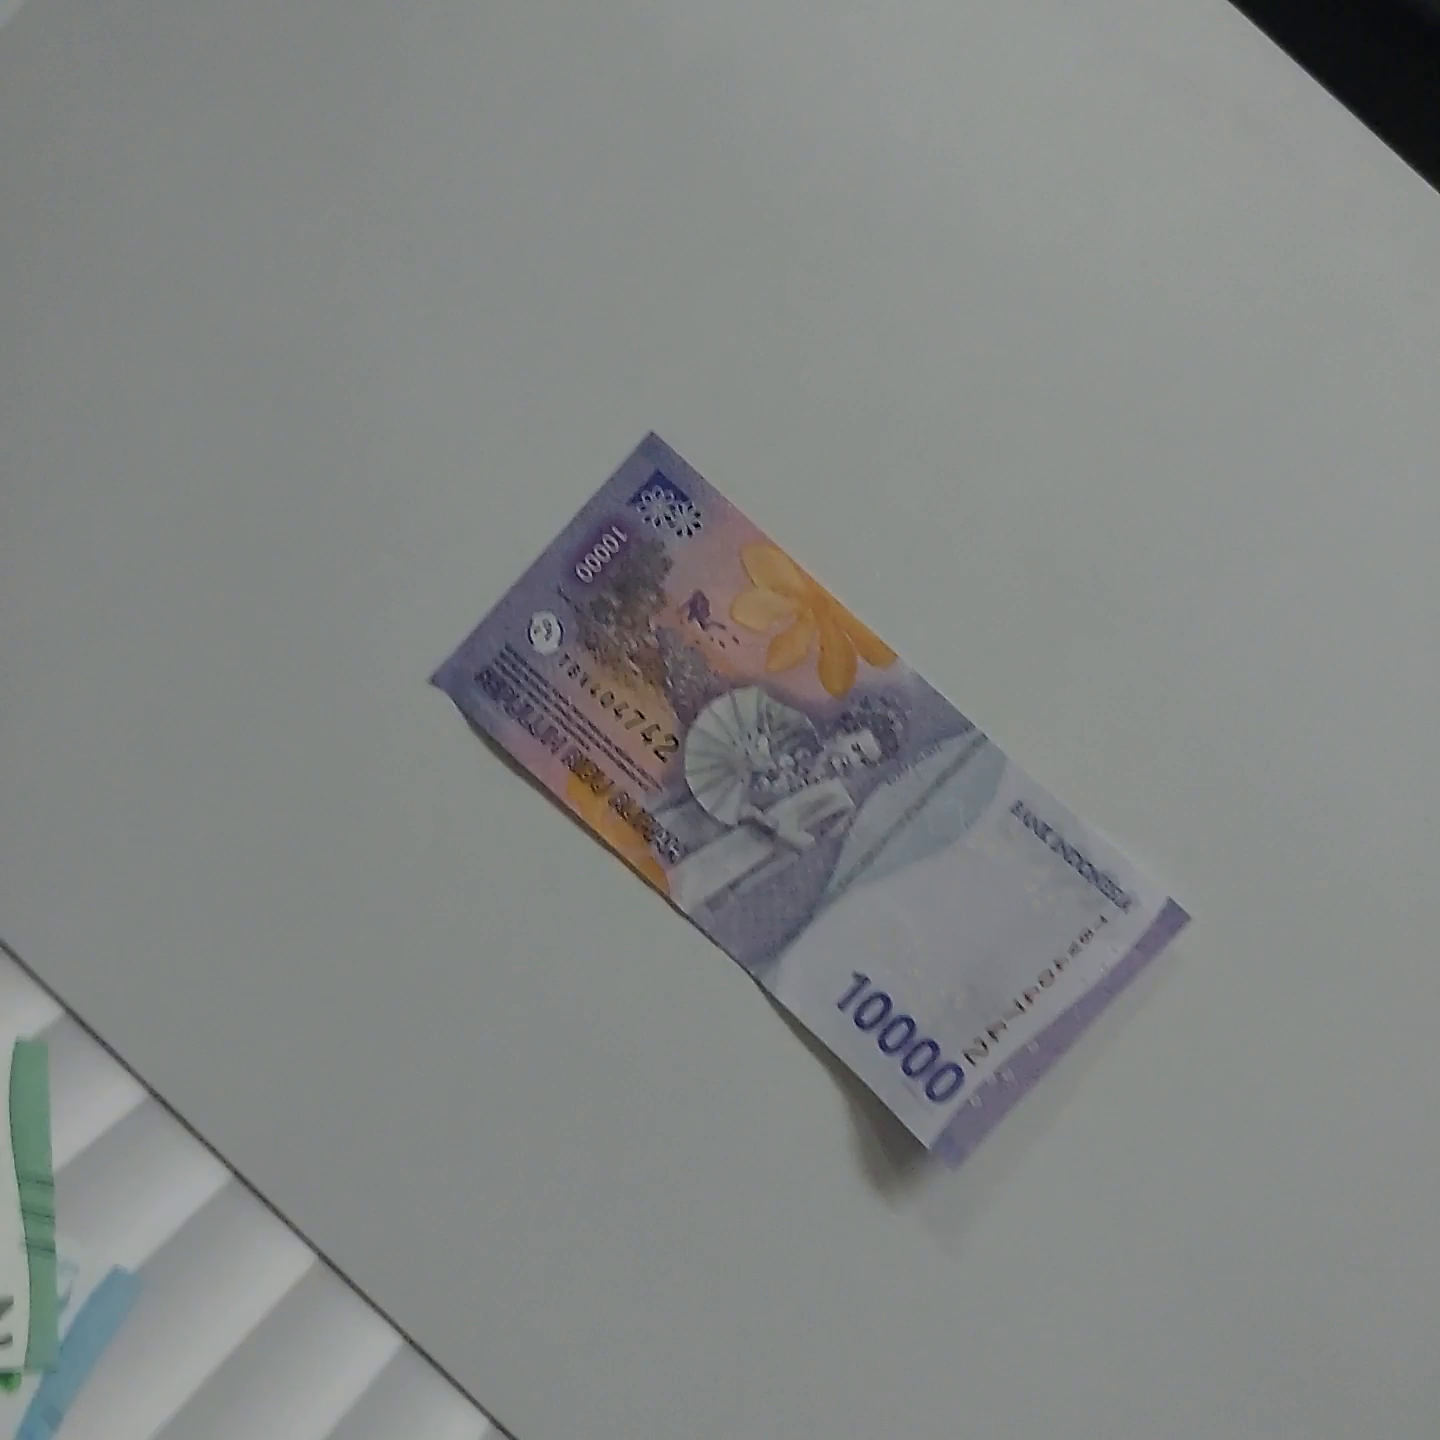10k: (645, 426, 1385, 786), (914, 547, 930, 554)
